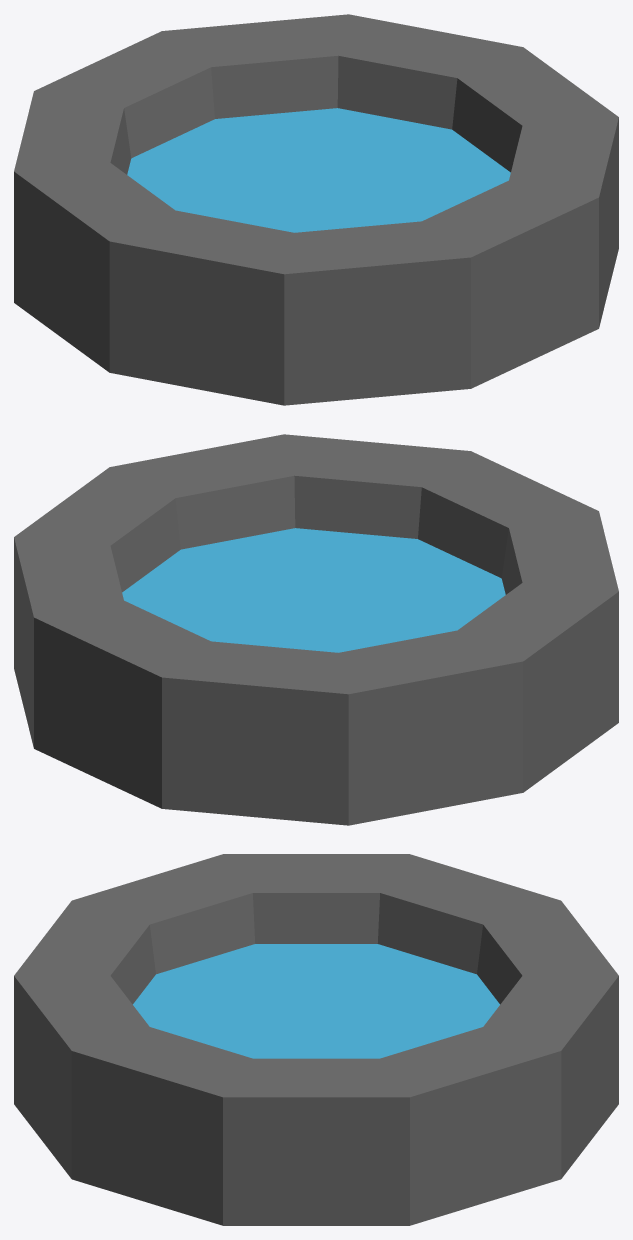
The model's file is Well.fbx.
3 renders of one model, top to bottom at view 1: azimuth 30°, elevation 25°; view 2: azimuth 150°, elevation 25°; view 3: azimuth 270°, elevation 25°, orthographic. The views are drawn at different scales.
Visible parts, largest first — view 1: Well; view 2: Well; view 3: Well.
Boxes of the visible parts, bbox=[...] form: Well: bbox=[14, 14, 618, 405]; Well: bbox=[14, 434, 618, 825]; Well: bbox=[14, 854, 618, 1225].
Size of the model in its own units: 122 by 30 by 128.
